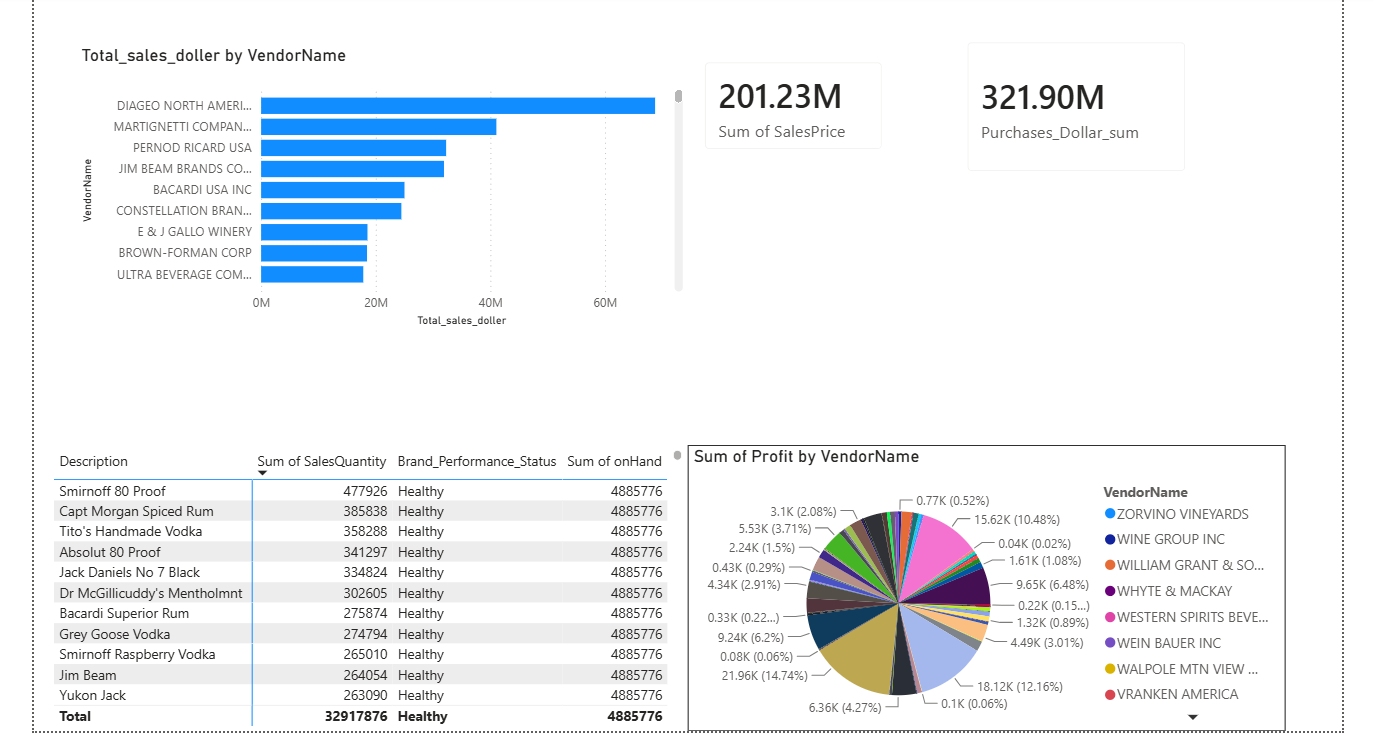

Layout of this report page (visuals, bound fields, positions):
{"tool":"powerbi","page":{"name":"Page 1","canvas":[1280,720],"ordinal":0},"visuals":[{"type":"pivotTable","fields":{"Rows":["sales.Description"],"Values":["Sum(sales.SalesQuantity)","sales.Brand_Performance_Status","Sum(end_inventory.onHand)"]},"box":[15.1,440.5,624.4,279.9],"z":0},{"type":"clusteredBarChart","fields":{"Category":["sales.VendorName"],"Y":["sales.Total_sales_doller"]},"box":[41.2,49.4,598.3,279.9],"z":1000},{"type":"pieChart","fields":{"Category":["purchase_prices.VendorName"],"Y":["Sum(purchase_prices.Profit)"]},"box":[639,440,585,280],"z":3000},{"type":"cardVisual","fields":{"Data":["Sum(sales.SalesPrice)"]},"box":[639.5,48.9,207.9,119.8],"z":3001},{"type":"cardVisual","fields":{"Data":["purchases.Purchases_Dollar_sum"]},"box":[896.3,29.3,247,160.2],"z":3002}]}

Visuals, with their boxes on the page's 1280x720 design canvas (x1, y1, x2, y2). These are canvas units, not pixel positions in the 1373x736 screenshot, which may show the page scaled, cropped or inside an application window:
pivotTable - sales.Description x Sum(sales.SalesQuantity): left=15, top=440, right=640, bottom=720
clusteredBarChart - sales.VendorName x sales.Total_sales_doller: left=41, top=49, right=640, bottom=329
pieChart - purchase_prices.VendorName x Sum(purchase_prices.Profit): left=639, top=440, right=1224, bottom=720
cardVisual - Sum(sales.SalesPrice): left=640, top=49, right=847, bottom=169
cardVisual - purchases.Purchases_Dollar_sum: left=896, top=29, right=1143, bottom=190
